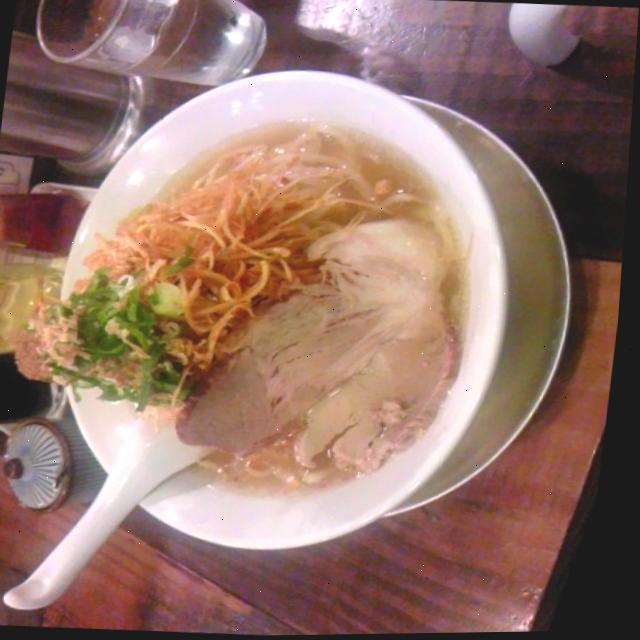面条主食: (31, 60, 535, 568)
